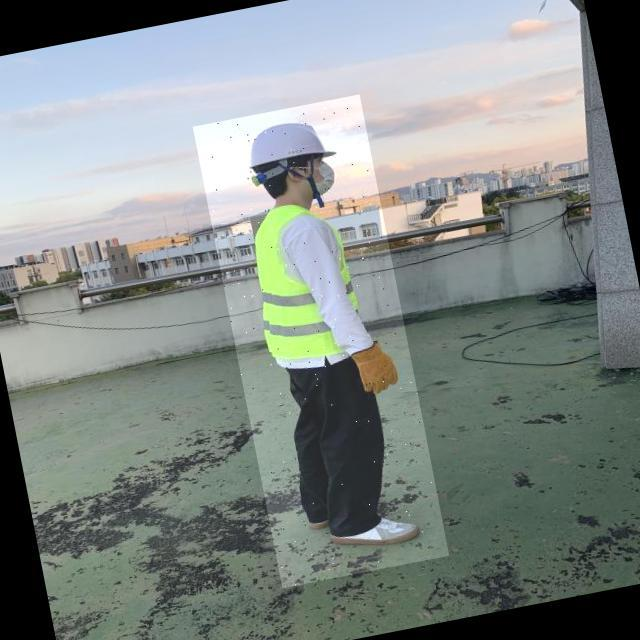Gloves: (350, 337, 403, 398)
Helmet: (243, 115, 339, 173)
Person: (225, 100, 439, 574)
Safety Boot: (328, 510, 422, 556)
Safety Vest: (242, 196, 368, 368)
